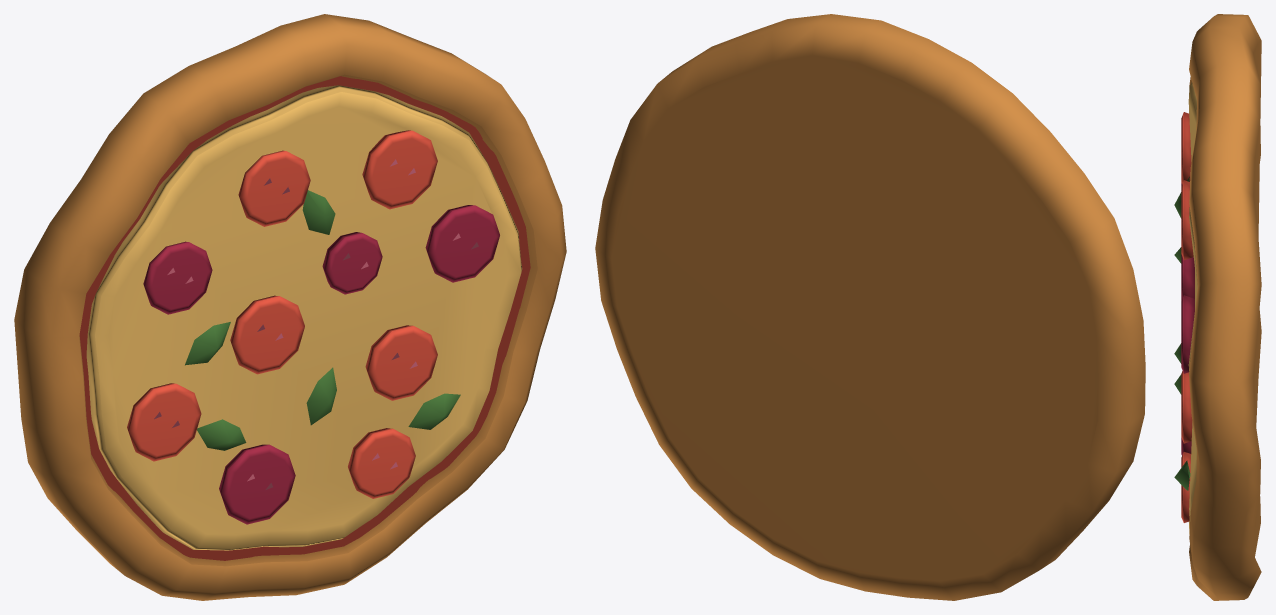
Rendered from snack_pizza.glb.
The picture shows the model from 3 angles, left to right: view 1: azimuth 30°, elevation 25°; view 2: azimuth 150°, elevation 25°; view 3: azimuth 270°, elevation 25°; orthographic projection. The views are drawn at different scales.
Parts seen in each view (by area): view 1: Puffy baked rim; view 2: Puffy baked rim; view 3: Puffy baked rim.
Part boxes in pixels (<box>): Puffy baked rim: <box>14,14,566,600</box>; Puffy baked rim: <box>595,14,1145,600</box>; Puffy baked rim: <box>1174,14,1261,600</box>.
Bounding box in the file's own units: 2.38 × 2.38 × 0.3539.
